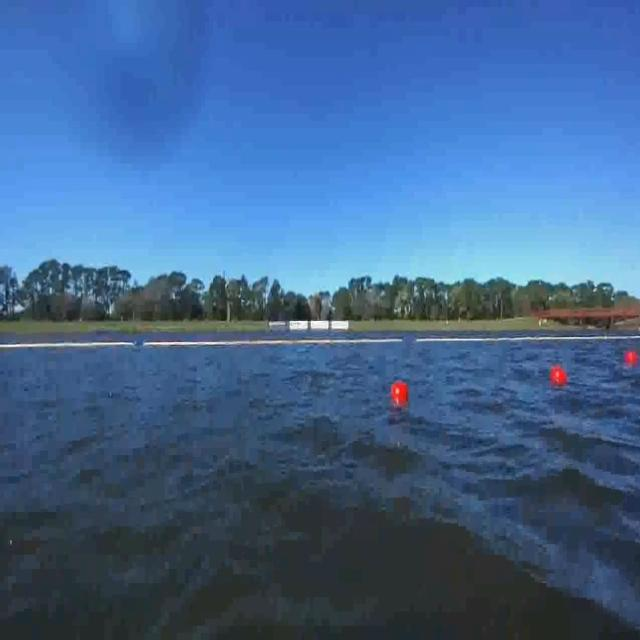red-buoy: (550, 365, 567, 386), (391, 382, 407, 402), (624, 351, 639, 366)
